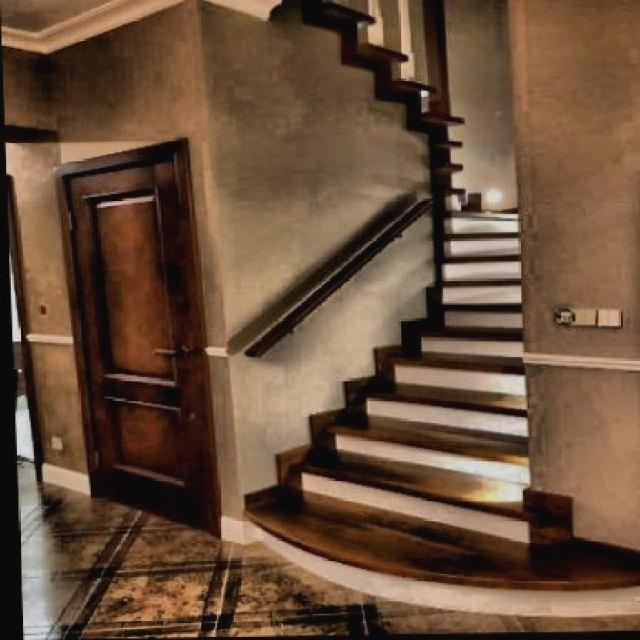stair: (248, 216, 594, 534)
